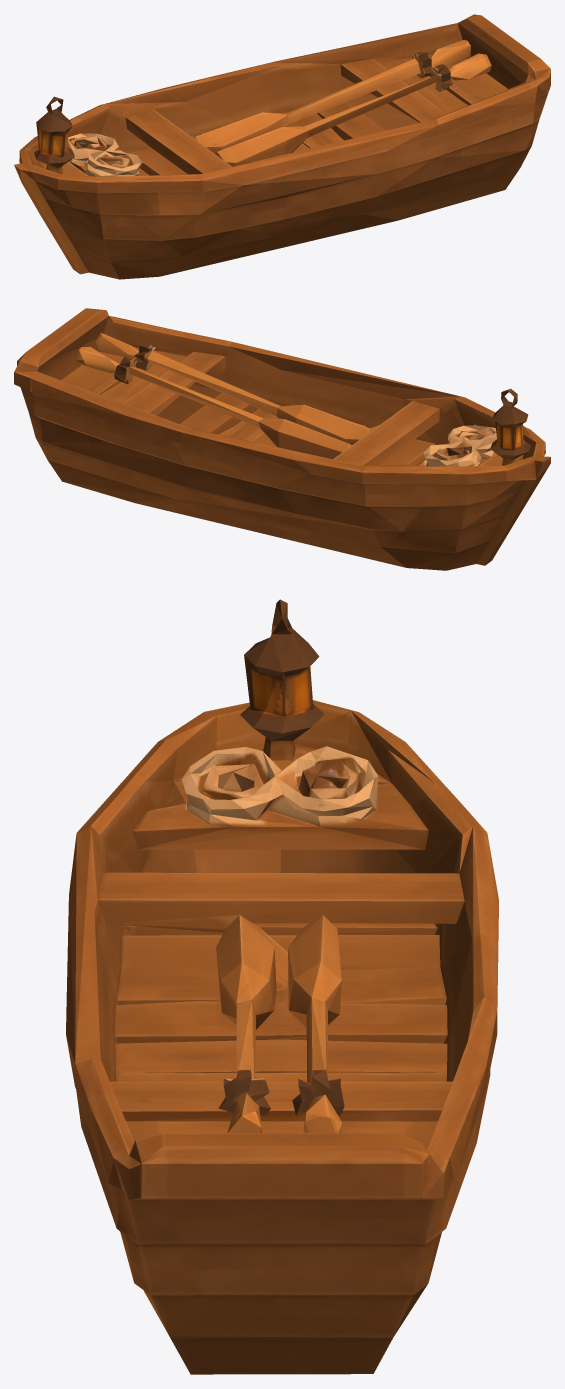
Rendered from TWN_PRP_boat_A.glb.
The picture shows the model from 3 angles, top to bottom: view 1: azimuth 30°, elevation 25°; view 2: azimuth 150°, elevation 25°; view 3: azimuth 270°, elevation 25°; orthographic projection. The views are drawn at different scales.
Visible parts, largest first — view 1: Mesh_0; view 2: Mesh_0; view 3: Mesh_0.
Part boxes in pixels (x1,y1,x2,y2): Mesh_0: (14,14,550,279); Mesh_0: (14,308,550,570); Mesh_0: (66,599,498,1374).
Size of the model in its own units: 1.9 by 0.6601 by 0.72.
Materials: 1 (1 with a texture image).
